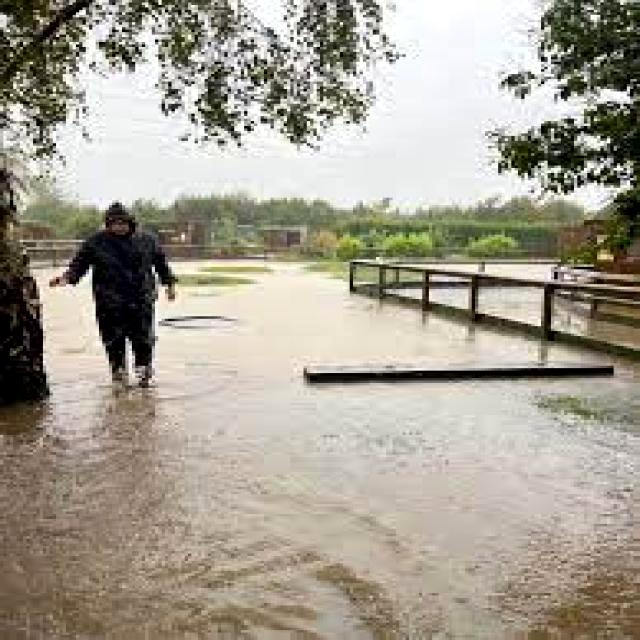civilian: (48, 192, 183, 407)
